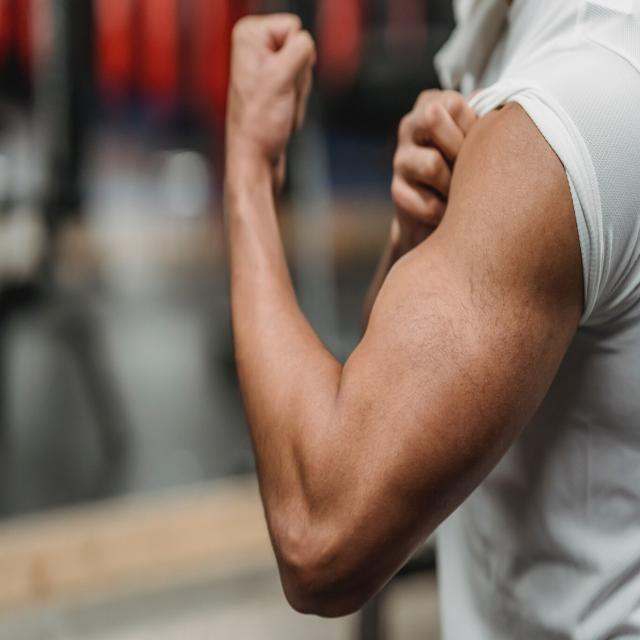piel: (222, 14, 586, 621)
